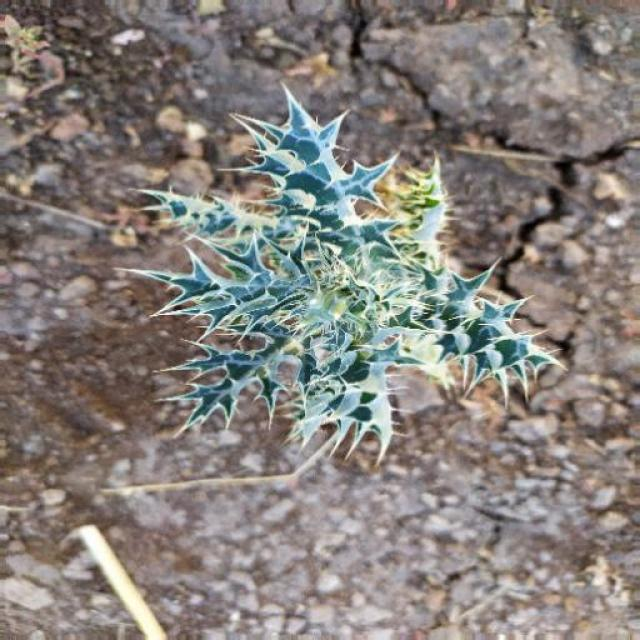weed: (113, 90, 562, 455)
